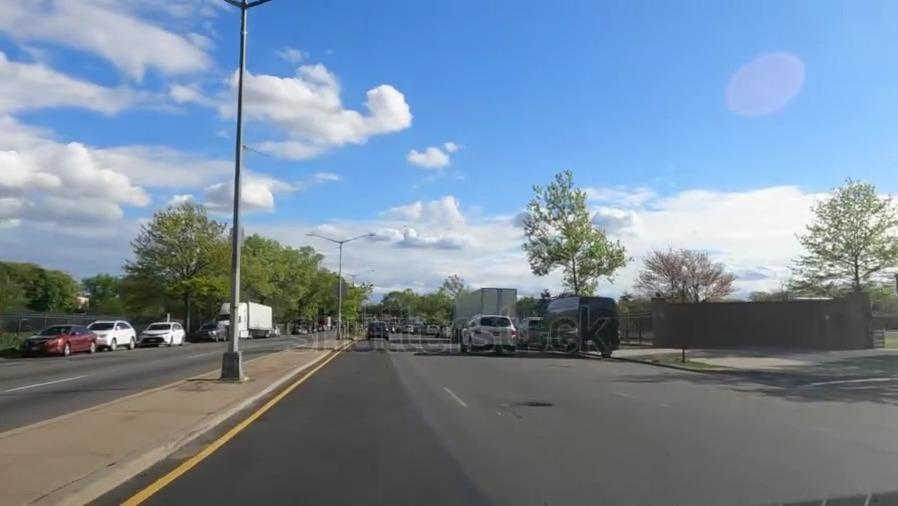car: (18, 324, 98, 356), (459, 314, 516, 354), (88, 320, 136, 350), (139, 322, 187, 347), (514, 315, 544, 349), (192, 323, 228, 341), (365, 320, 390, 341)
pothole: (510, 394, 558, 412)
truck: (449, 286, 517, 332), (217, 302, 273, 340)
van: (537, 296, 622, 360)
